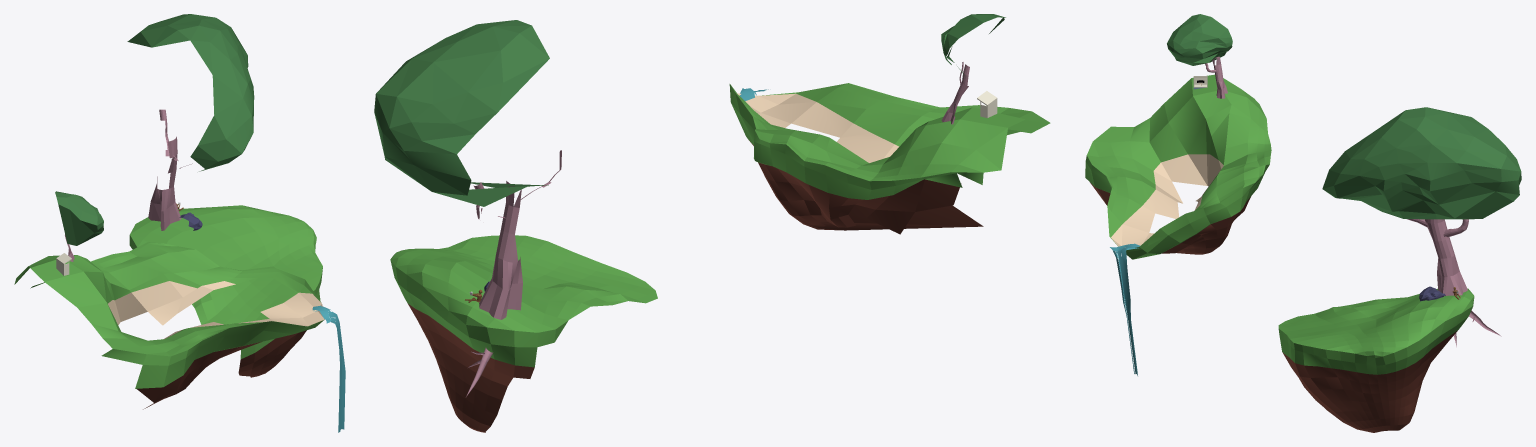
3 renders of one model, left to right at view 1: azimuth 30°, elevation 25°; view 2: azimuth 150°, elevation 25°; view 3: azimuth 270°, elevation 25°, orthographic. The views are drawn at different scales.
Visible parts, largest first — view 1: Object_20, Object_14, Object_15, Object_16, Object_18; view 2: Object_15, Object_20, Object_14, Object_16; view 3: Object_14, Object_20, Object_15, Object_16, Object_18.
Part boxes in pixels (x1=…): Object_20: x1=14, y1=242, x2=324, y2=409; Object_14: x1=55, y1=14, x2=324, y2=339; Object_15: x1=129, y1=205, x2=322, y2=377; Object_16: x1=65, y1=109, x2=192, y2=261; Object_18: x1=312, y1=305, x2=345, y2=432; Object_15: x1=390, y1=143, x2=871, y2=432; Object_20: x1=729, y1=83, x2=1050, y2=234; Object_14: x1=374, y1=14, x2=1005, y2=206; Object_16: x1=466, y1=62, x2=969, y2=396; Object_14: x1=1111, y1=14, x2=1521, y2=247; Object_20: x1=1085, y1=74, x2=1271, y2=259; Object_15: x1=1247, y1=164, x2=1474, y2=432; Object_16: x1=1205, y1=56, x2=1501, y2=346; Object_18: x1=1110, y1=243, x2=1140, y2=375.
Size of the model in its own units: 34.7 by 28.71 by 37.39.
8 materials, 1 textured.
